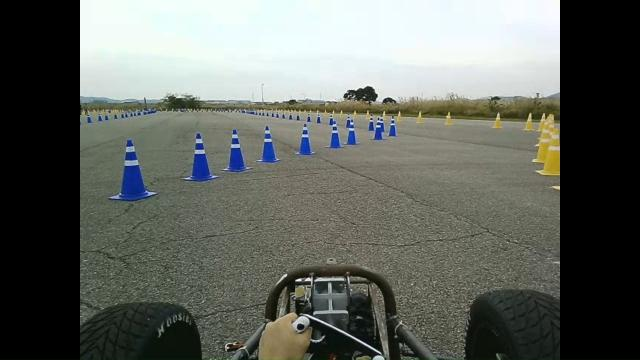blue cone: (112, 134, 160, 207), (178, 128, 220, 190), (220, 122, 252, 178), (256, 124, 282, 166), (292, 120, 320, 158)
yellow cone: (444, 111, 453, 125), (416, 110, 423, 124), (395, 110, 402, 122), (365, 109, 371, 119)
